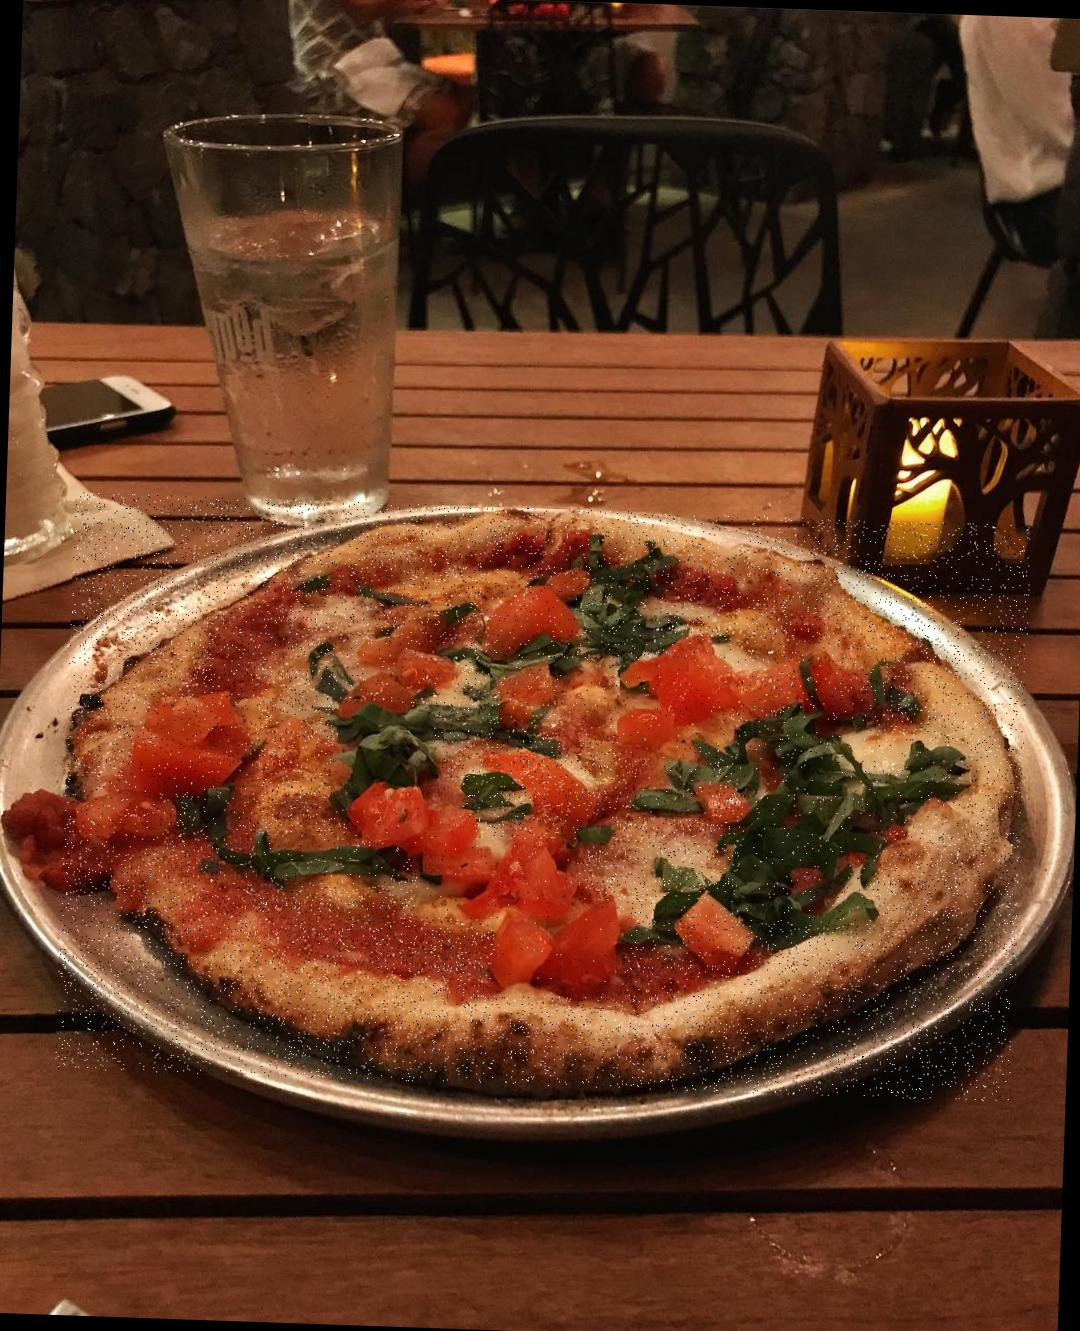Arugula: (738, 716, 877, 927), (569, 530, 680, 659), (331, 702, 443, 809), (853, 740, 970, 834), (217, 835, 406, 889), (625, 855, 700, 945), (635, 744, 709, 818), (461, 761, 527, 821), (434, 693, 500, 742), (187, 800, 238, 848), (577, 819, 615, 851)
Pizza: (55, 493, 1032, 1103)
Tomatoes: (618, 639, 739, 755), (418, 835, 579, 921), (493, 896, 627, 998), (132, 697, 256, 797), (733, 643, 878, 725), (346, 775, 476, 861), (486, 740, 597, 841), (488, 657, 613, 743), (333, 641, 463, 716), (479, 575, 584, 656), (671, 892, 762, 975), (82, 784, 181, 846), (698, 775, 750, 824)
